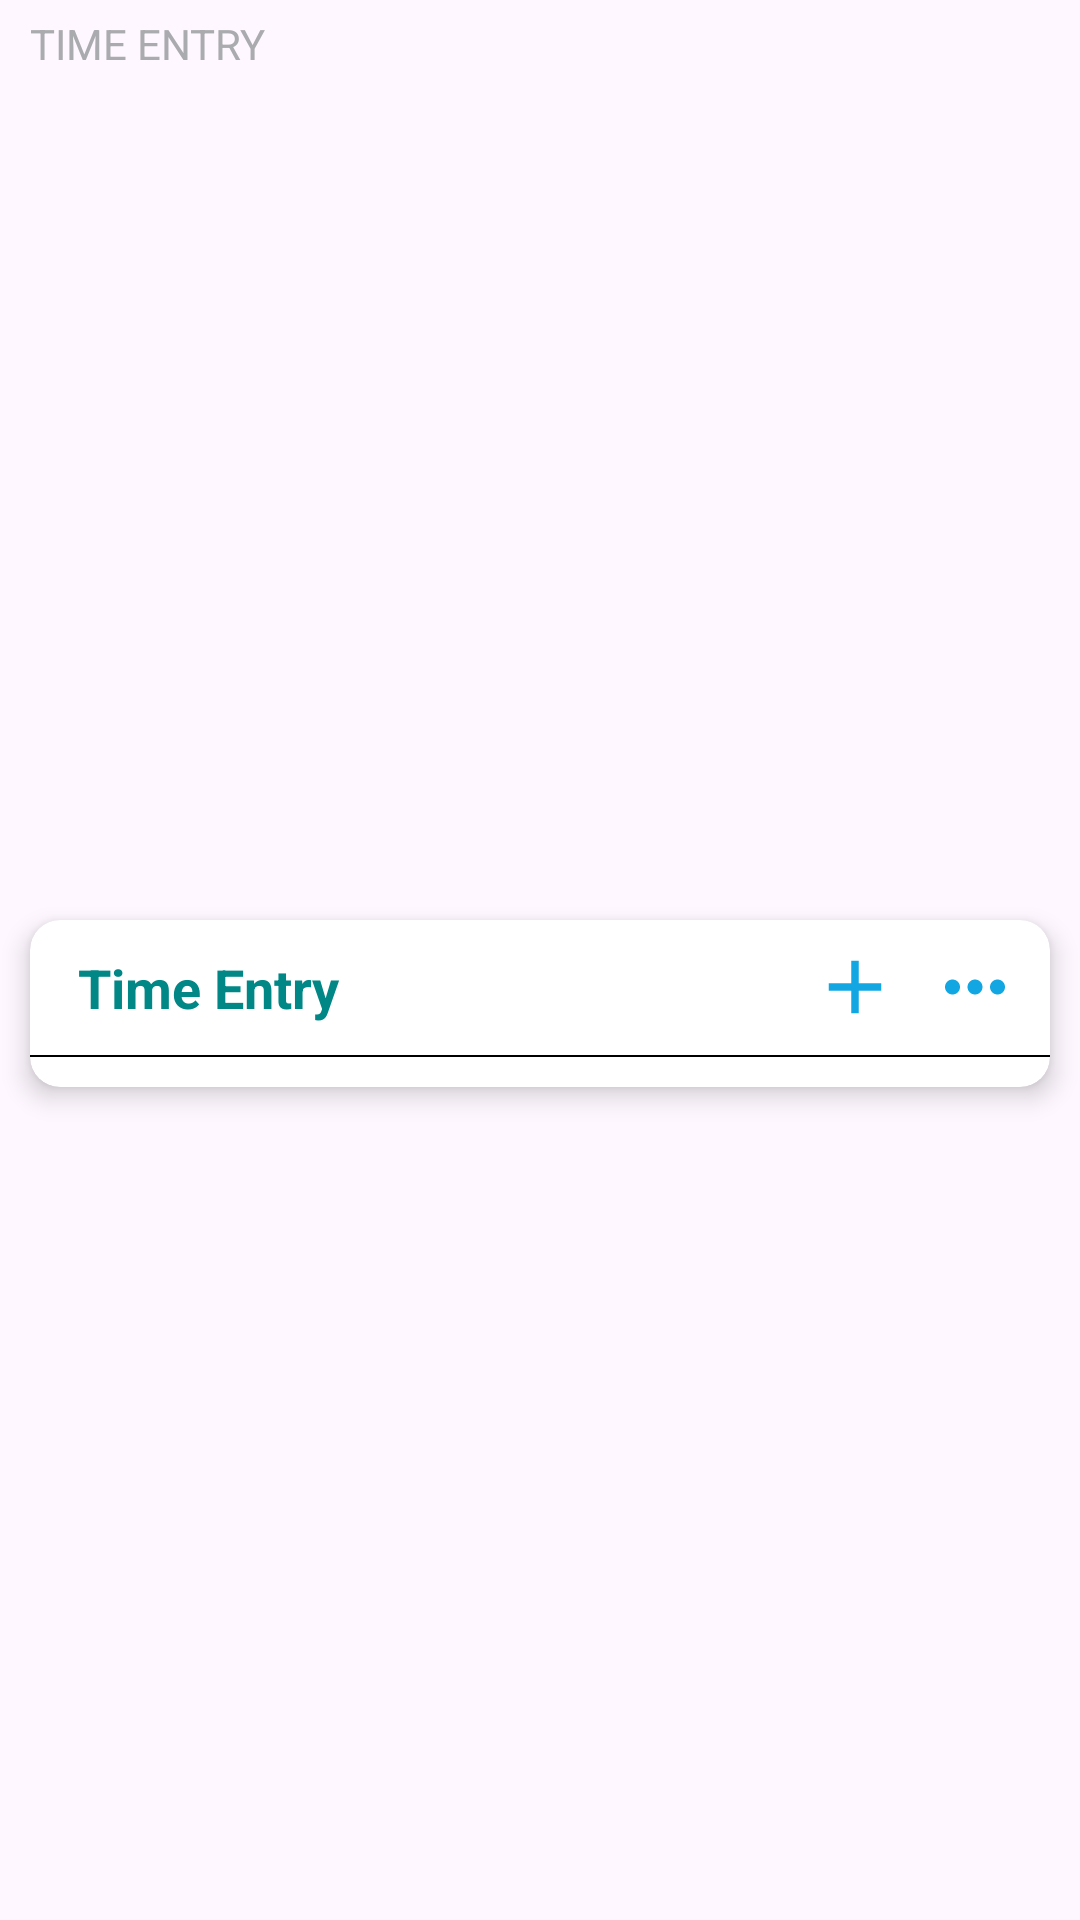

Icon click points for this 1080px x 1920px phone screenshot, format point (x, y):
add: point (855, 987)
more horiz: point (975, 987)
